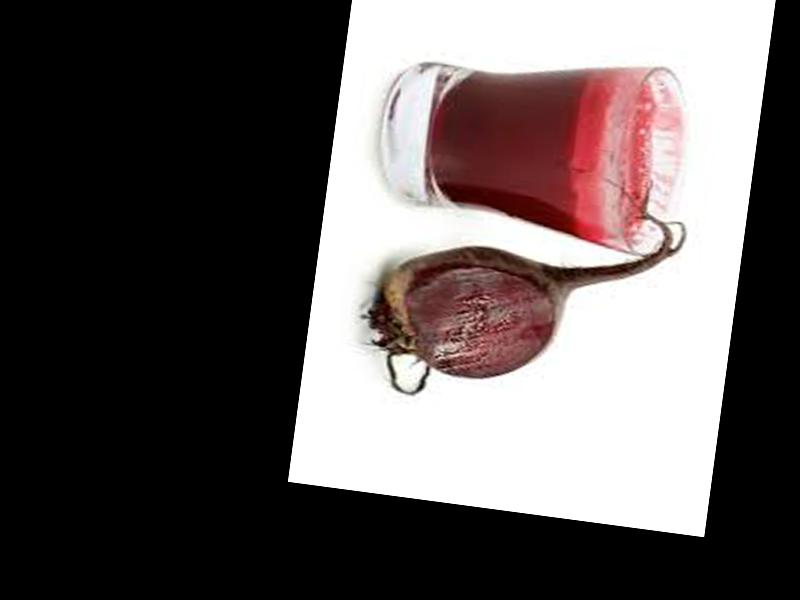Beet: (355, 154, 691, 427)
